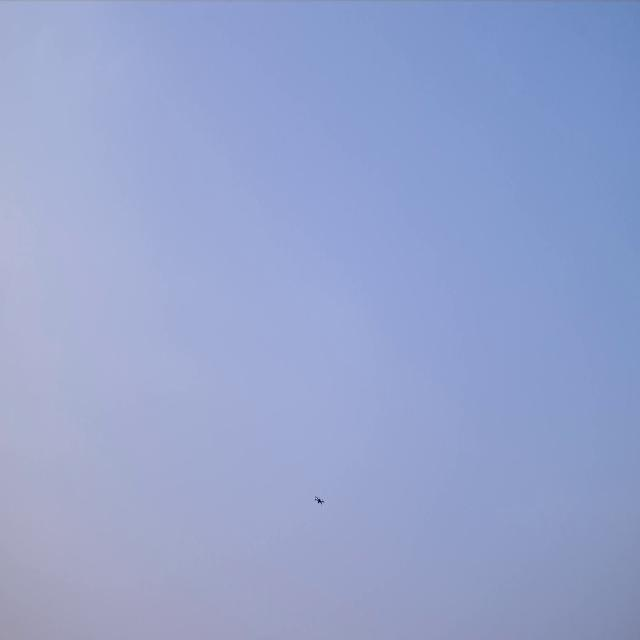UAV: (314, 494, 325, 508)
